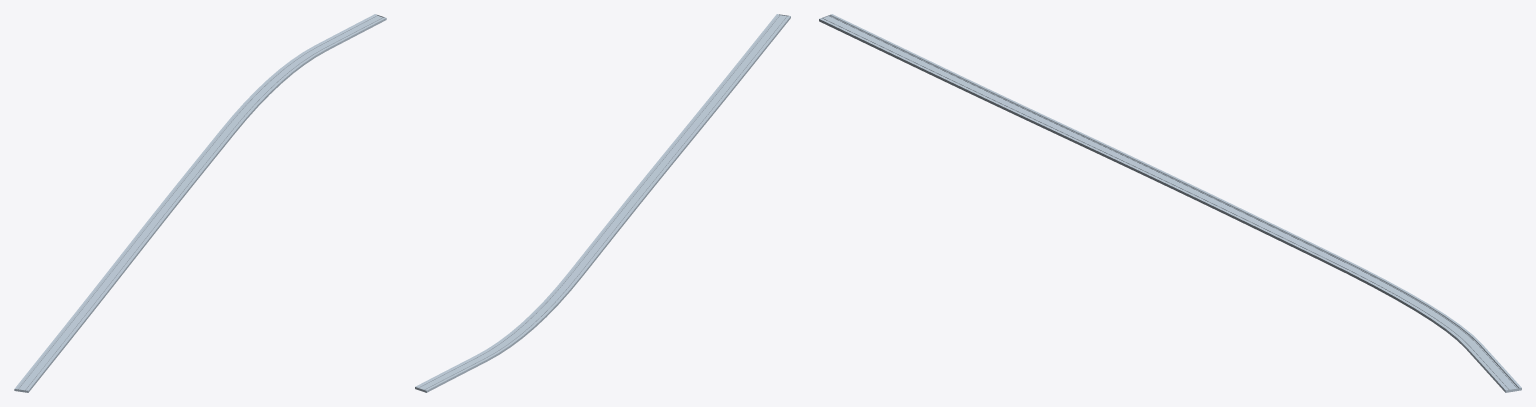
Rendered from Rail_-1_-1.fbx.
3 renders of one model, left to right at view 1: azimuth 30°, elevation 25°; view 2: azimuth 210°, elevation 25°; view 3: azimuth 270°, elevation 25°, orthographic. The views are drawn at different scales.
Visible parts, largest first — view 1: Rail_-1_-1; view 2: Rail_-1_-1; view 3: Rail_-1_-1.
Part boxes in pixels (x1,y1,x2,y2): Rail_-1_-1: (14, 14, 386, 392); Rail_-1_-1: (415, 14, 790, 392); Rail_-1_-1: (819, 14, 1521, 392).
Bounding box in the file's own units: 60600 × 363 × 47519.
